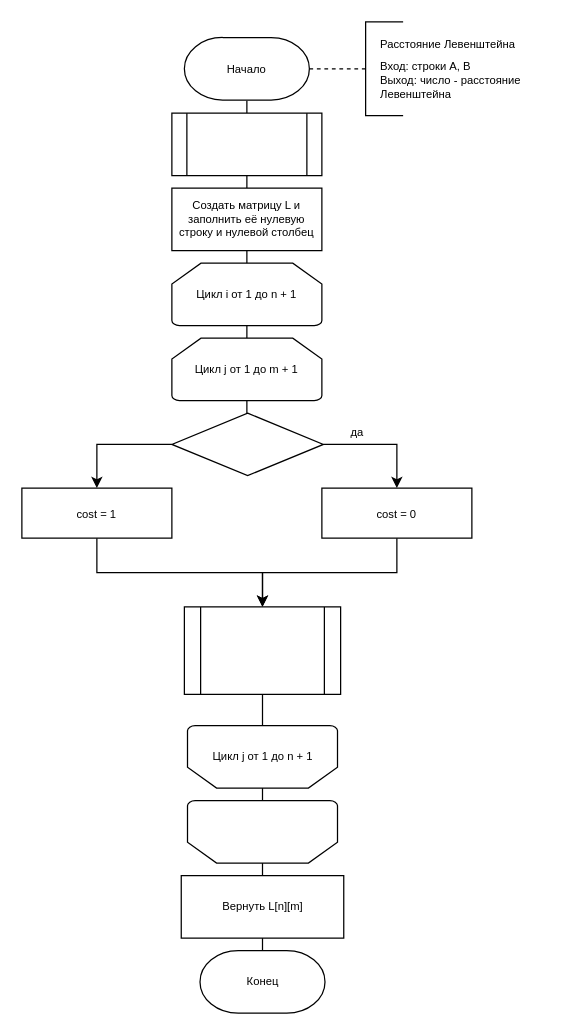
Some shapes in this 575 by 1035 pixel diagram are drawn without their labels. Here are the shapes that lost their labels. From the top down, the centre of each, then its label:
pixel 246 144: n = len(A) m = len(B)
pixel 247 444: A[i - 1] == B[j - 1]
pixel 262 650: L[i][j] = min ( L[i][j - 1] + 1, L[i - 1][j] + 1, L[i - 1][j - 1] + cost)
pixel 262 831: Цикл i от 1 до m + 1
